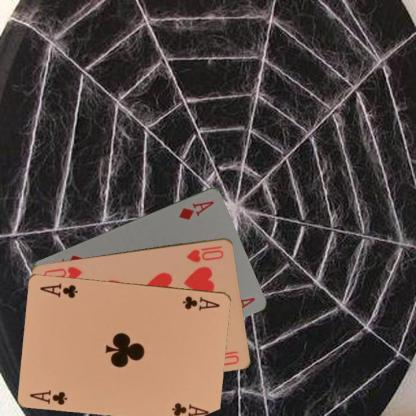10h: (184, 242, 225, 263)
Ac: (180, 293, 222, 312), (27, 387, 69, 406)
Ad: (176, 198, 216, 220)
